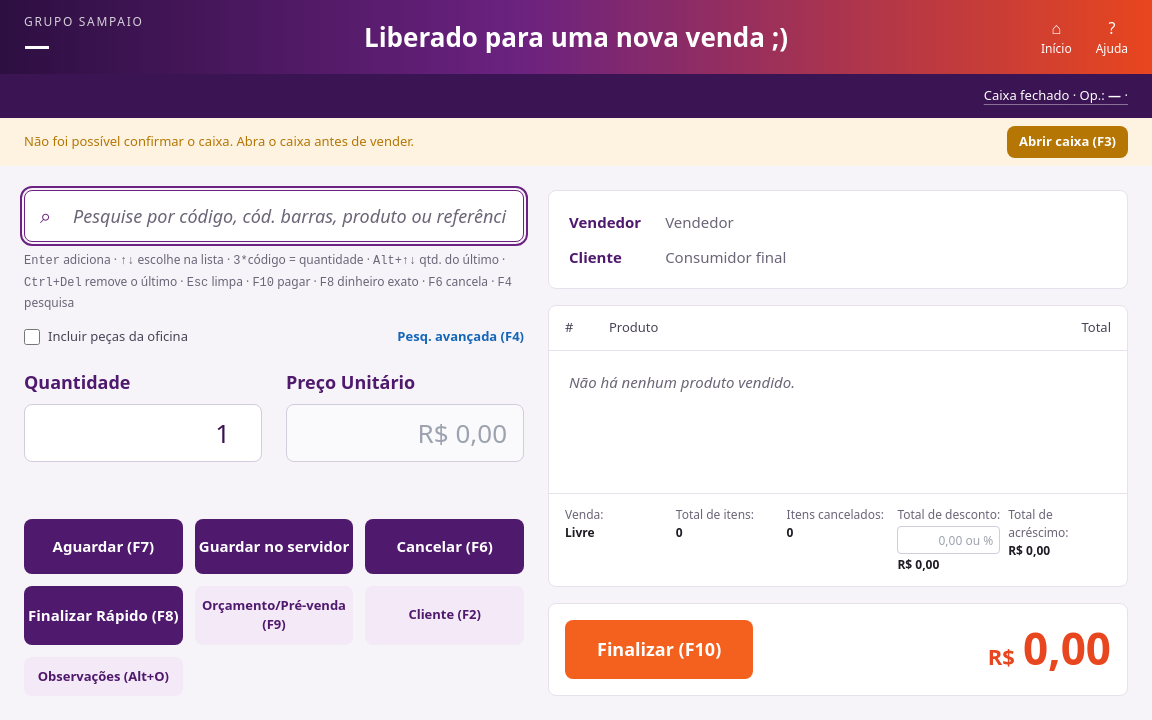
Test: o F9 mostra os DOIS documentos, e diz qual é qual › o orçamento aberto aparece na lista
Click the button "Orçamento/Pré-venda (F9)". click: (274, 615)
box: x1=195 y1=586 x2=353 y2=644
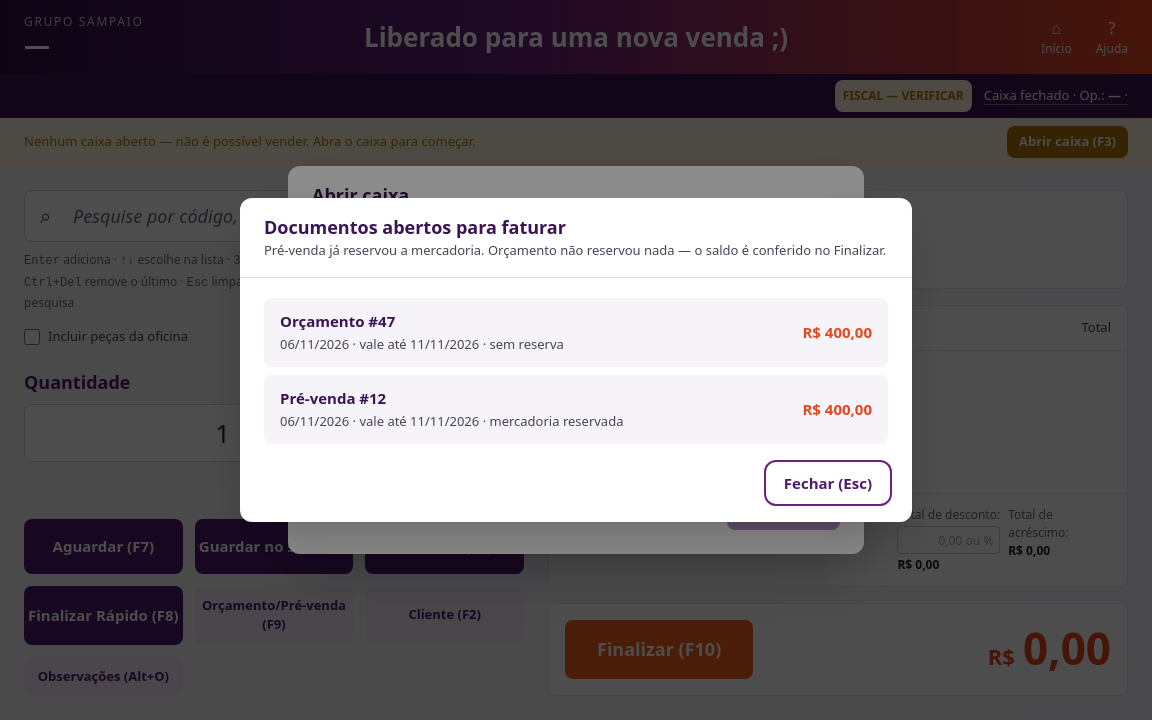
Now the button "Orçamento #47" is shown, box x1=264 y1=298 x2=888 y2=366
Now the button "Pré-venda #12" is shown, box x1=264 y1=374 x2=888 y2=444
